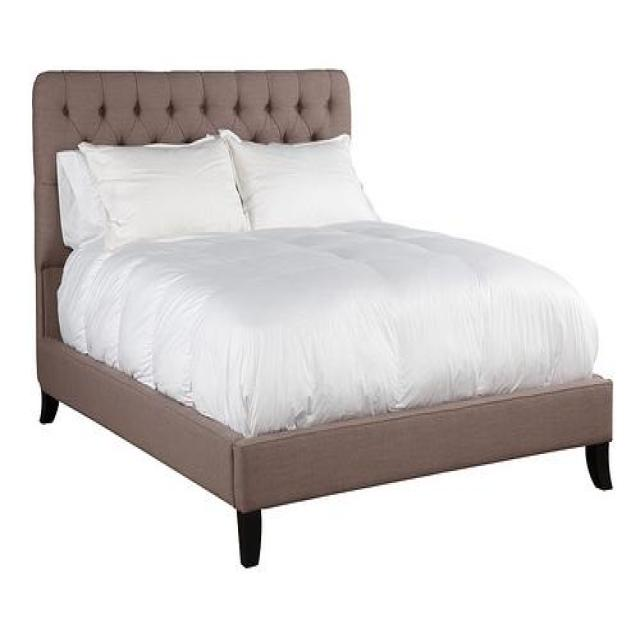bed: (33, 67, 614, 568)
